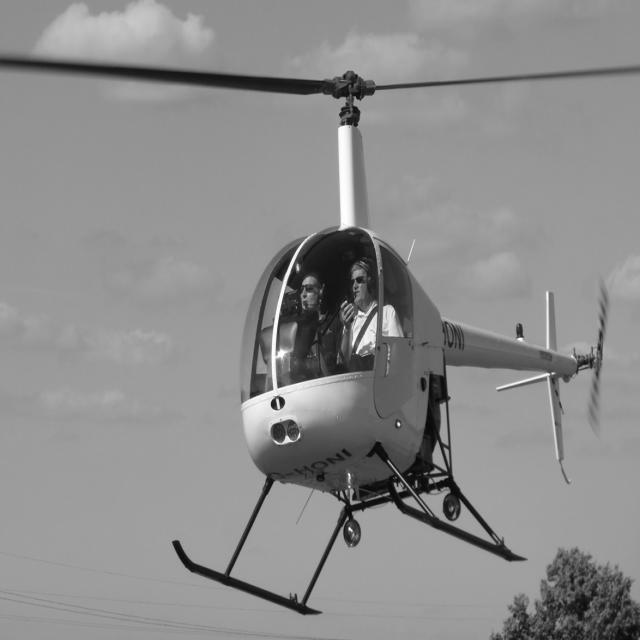helicopter: (1, 89, 640, 624)
